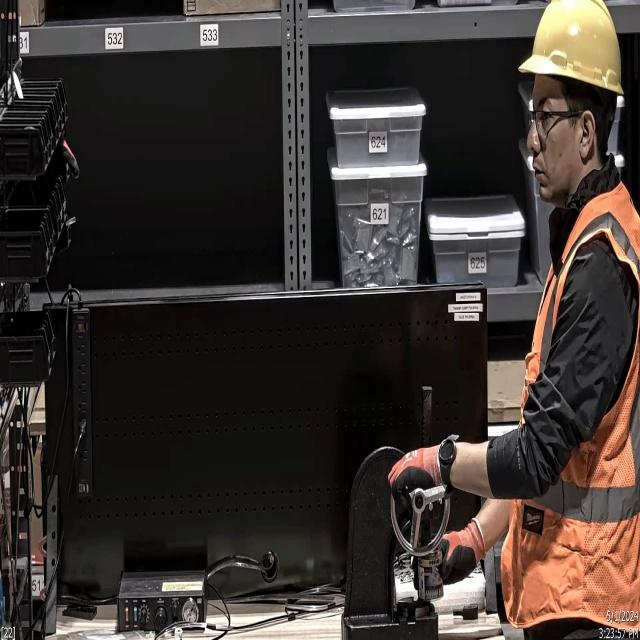gloves: (382, 433, 462, 521), (410, 520, 488, 598)
